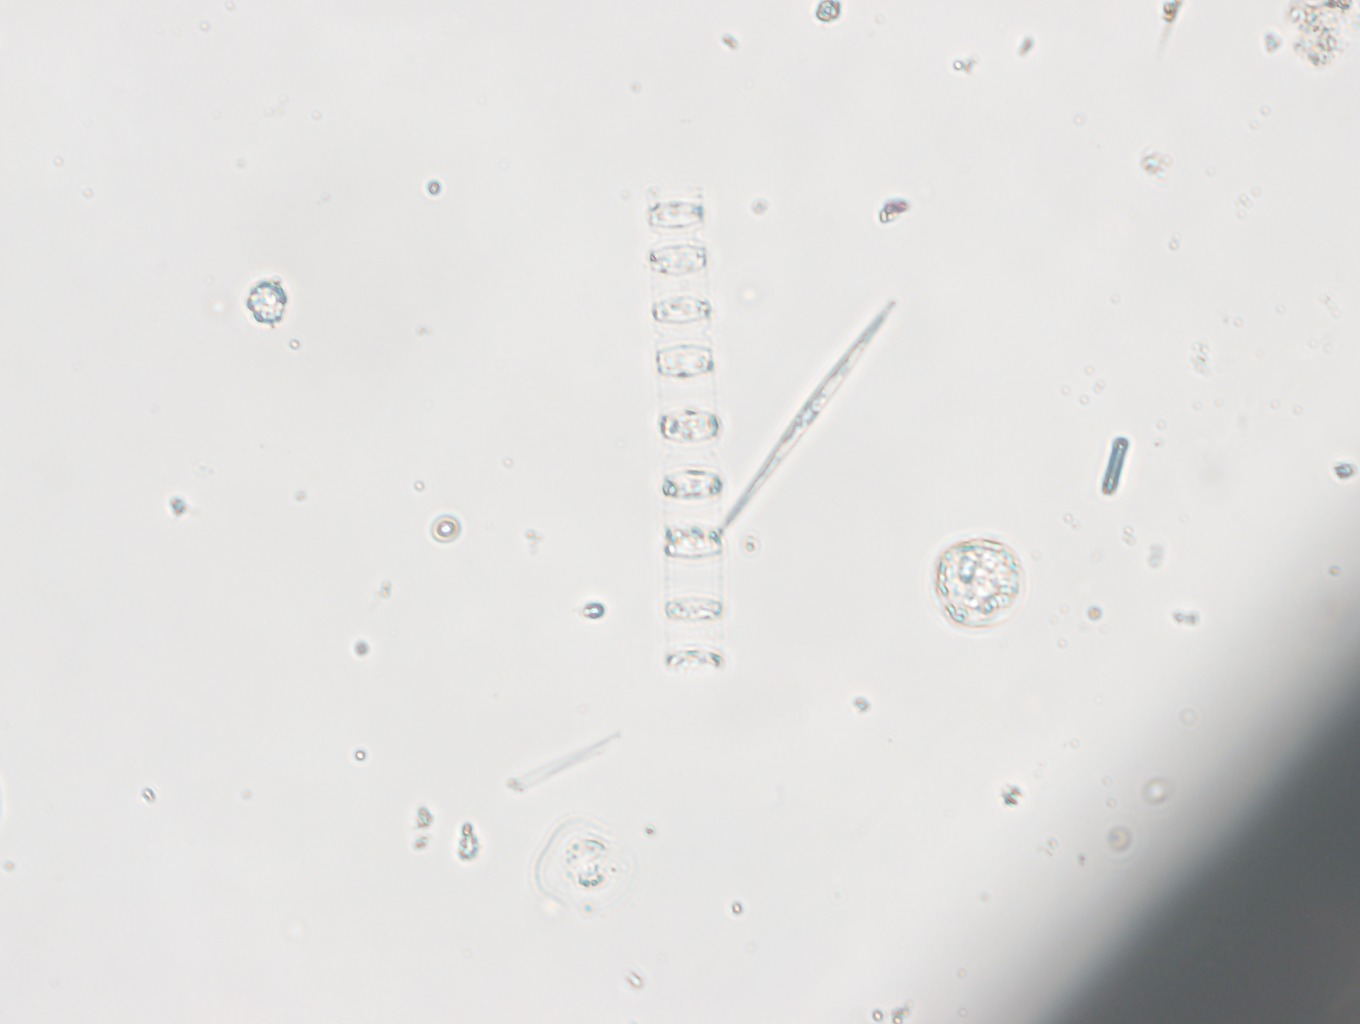navicula: (715, 294, 897, 538)
skeletonema: (645, 186, 726, 675)
